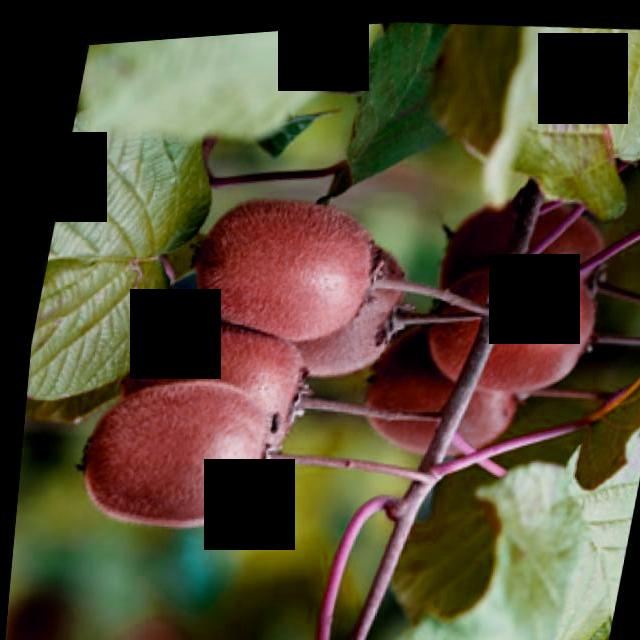kiwi: (64, 364, 287, 541), (103, 300, 311, 470), (180, 186, 388, 354), (417, 249, 606, 408), (418, 190, 612, 328), (355, 321, 530, 468)
